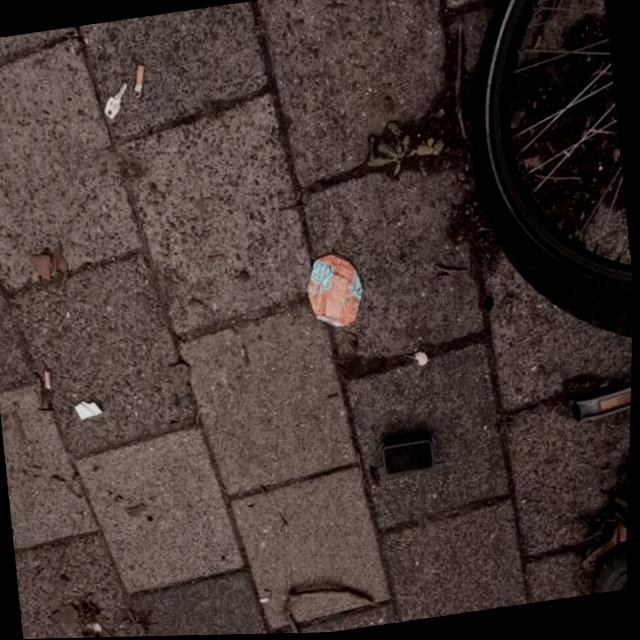Can-Metal: (302, 248, 370, 333)
